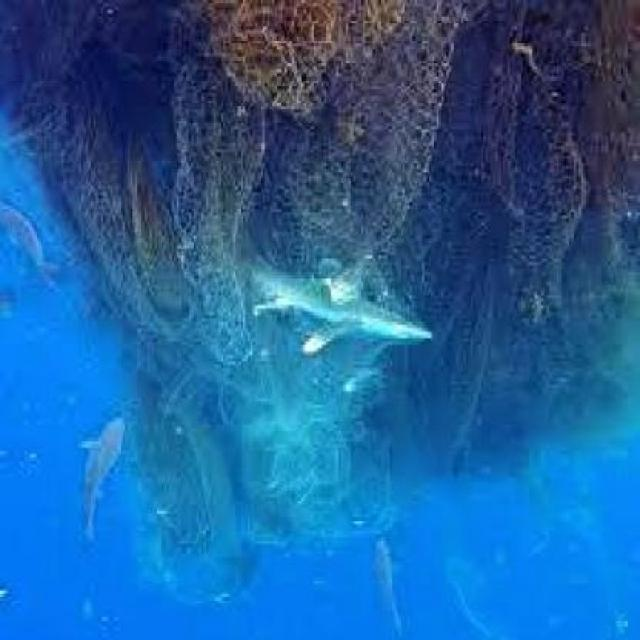net: (55, 3, 640, 311)
